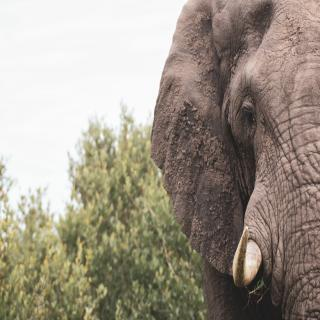Elephant: (146, 1, 320, 320)
